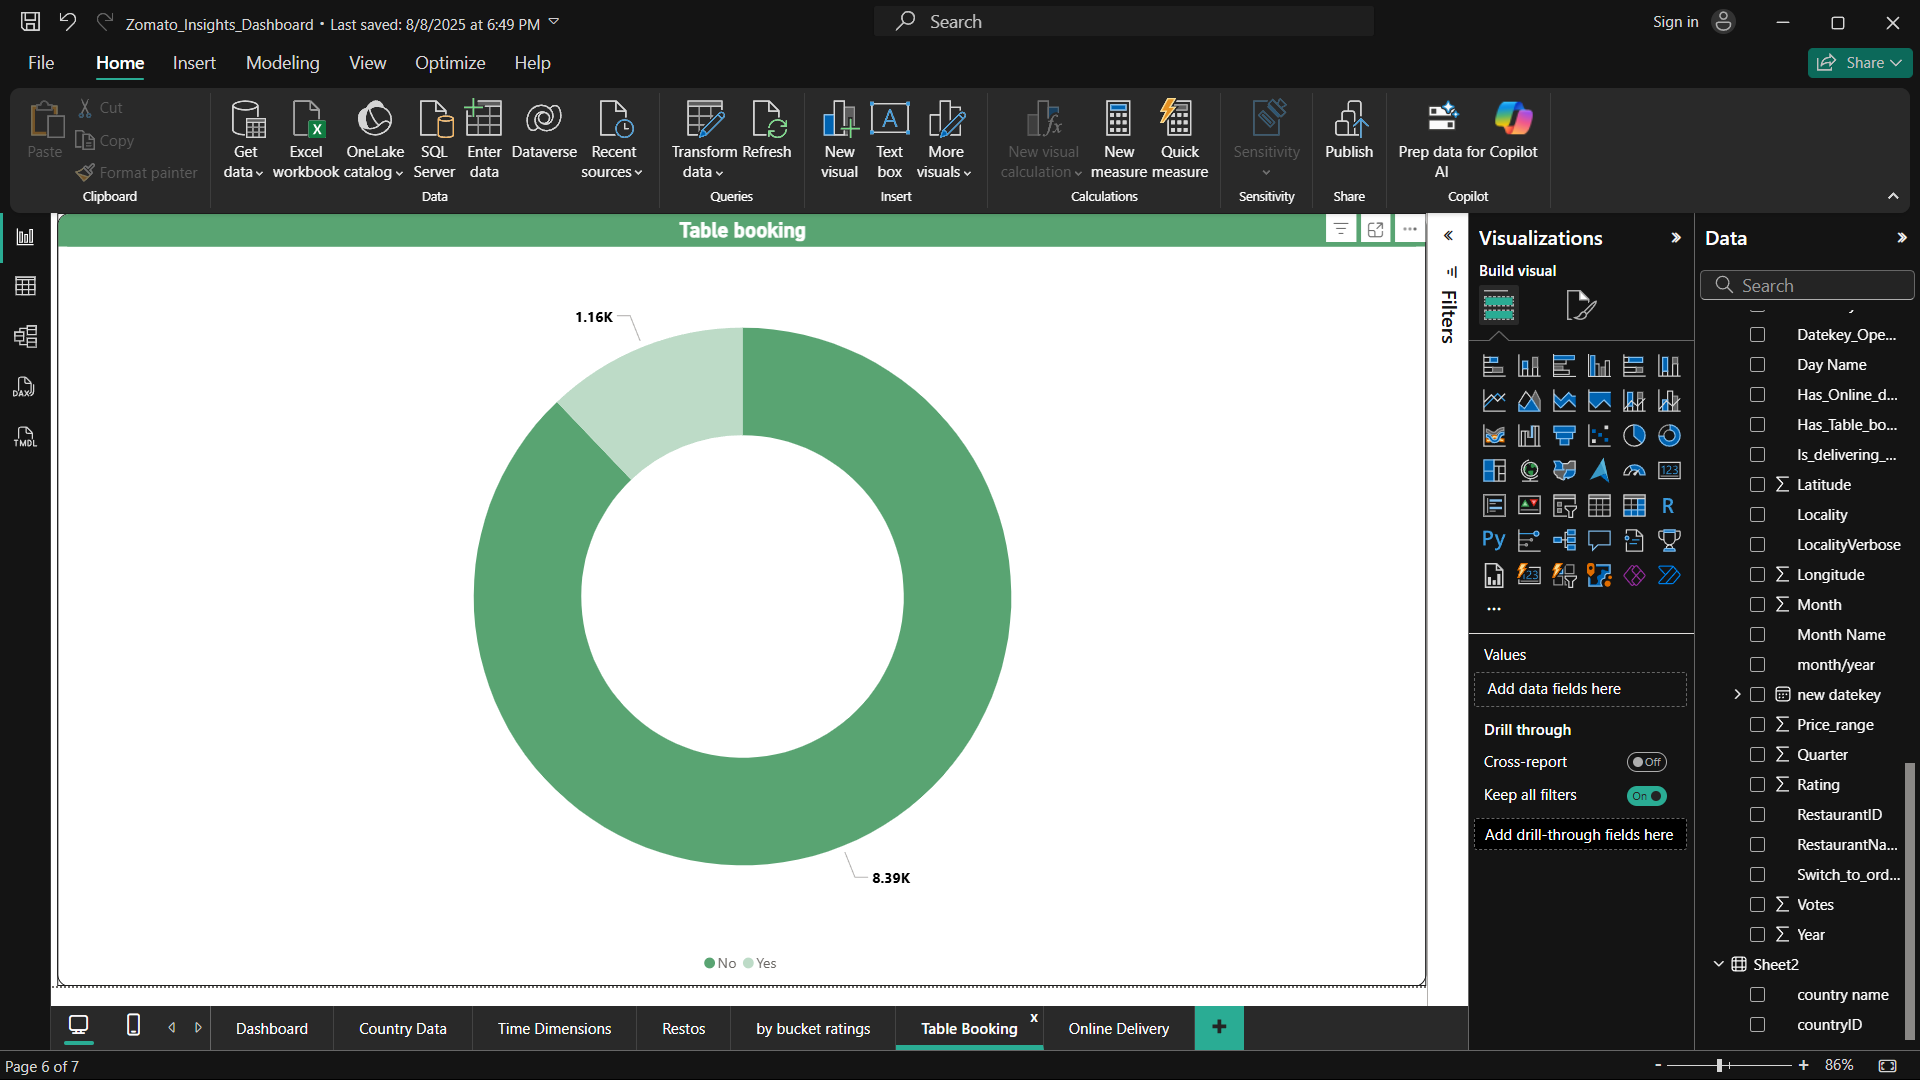

Layout of this report page (visuals, bound fields, positions):
{"tool":"powerbi","page":{"name":"Table Booking","canvas":[1280,720],"ordinal":5},"visuals":[{"type":"donutChart","title":"Table booking ","fields":{"Category":["cuisines copy.Has_Table_booking"],"Y":["CountNonNull(cuisines copy.Has_Table_booking)"]},"box":[5.7,0,1273.7,720],"z":0}]}

Visuals, with their boxes on the page's 1280x720 design canvas (x1, y1, x2, y2). These are canvas units, not pixel positions in the 1920x1080 screenshot, which may show the page scaled, cropped or inside an application window:
"Table booking " donutChart: x1=6, y1=0, x2=1279, y2=720
